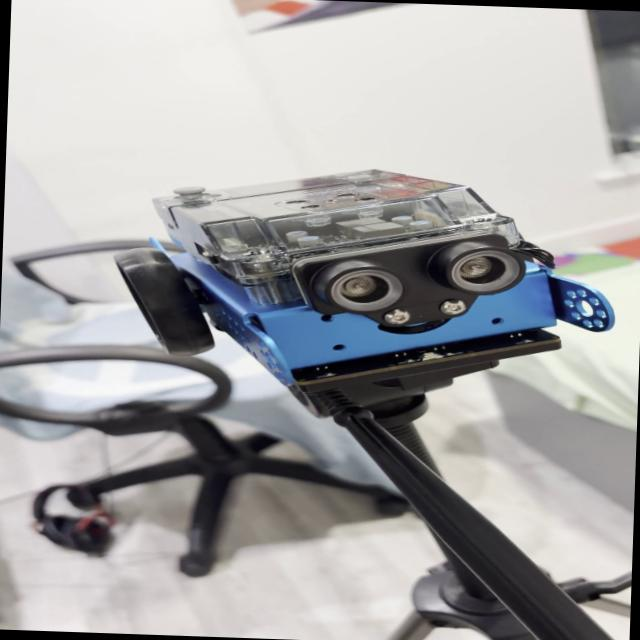mbot-detection: (94, 153, 634, 404)
